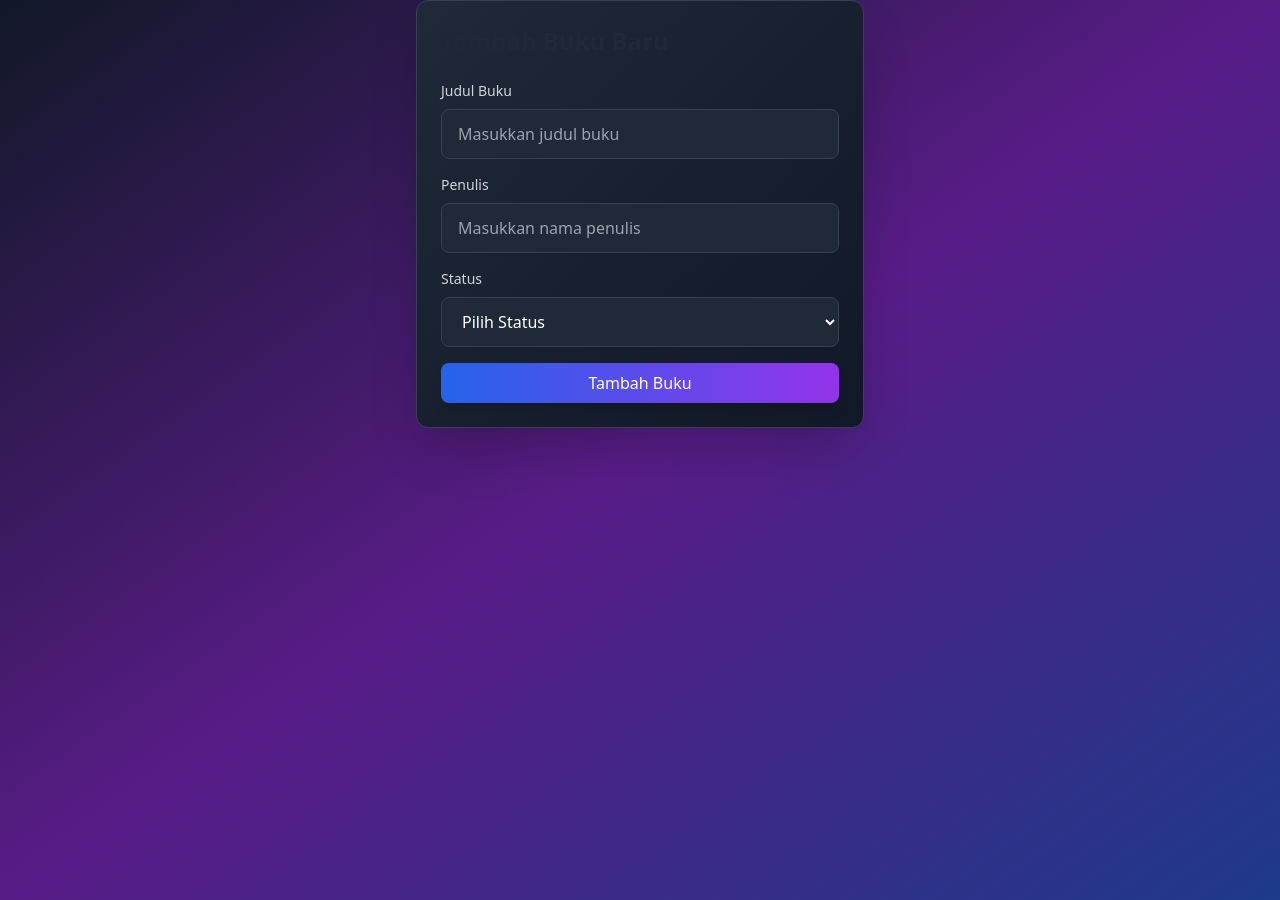
BookForm › shows validation errors for empty fields
Click the button "Tambah Buku" at x=640, y=383, box 441,363 -> 839,403
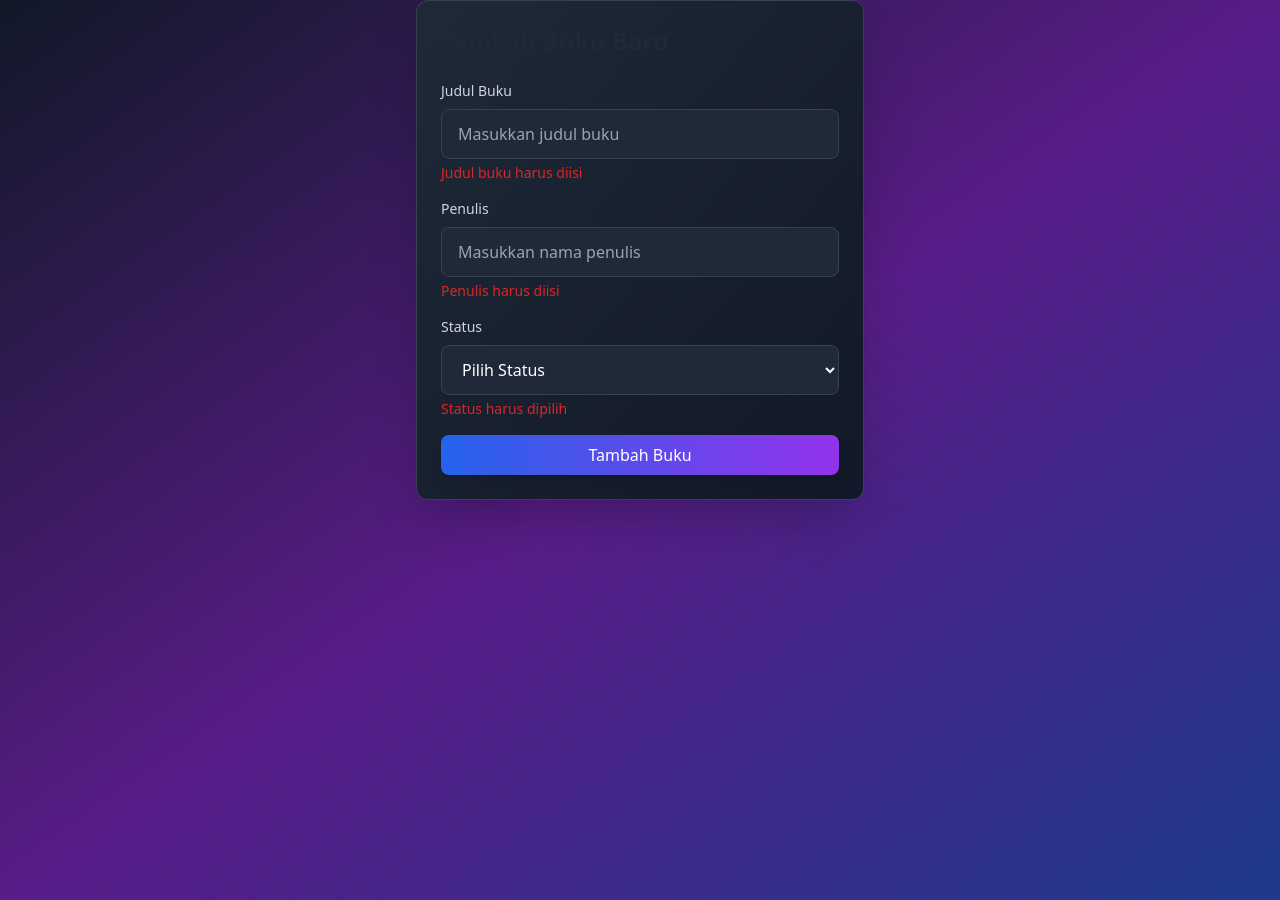
Check: the text "Judul buku harus diisi" is shown, box 441,163 -> 582,182
Check: the text "Penulis harus diisi" is shown, box 441,281 -> 560,300
Check: the text "Status harus dipilih" is shown, box 441,399 -> 567,418
